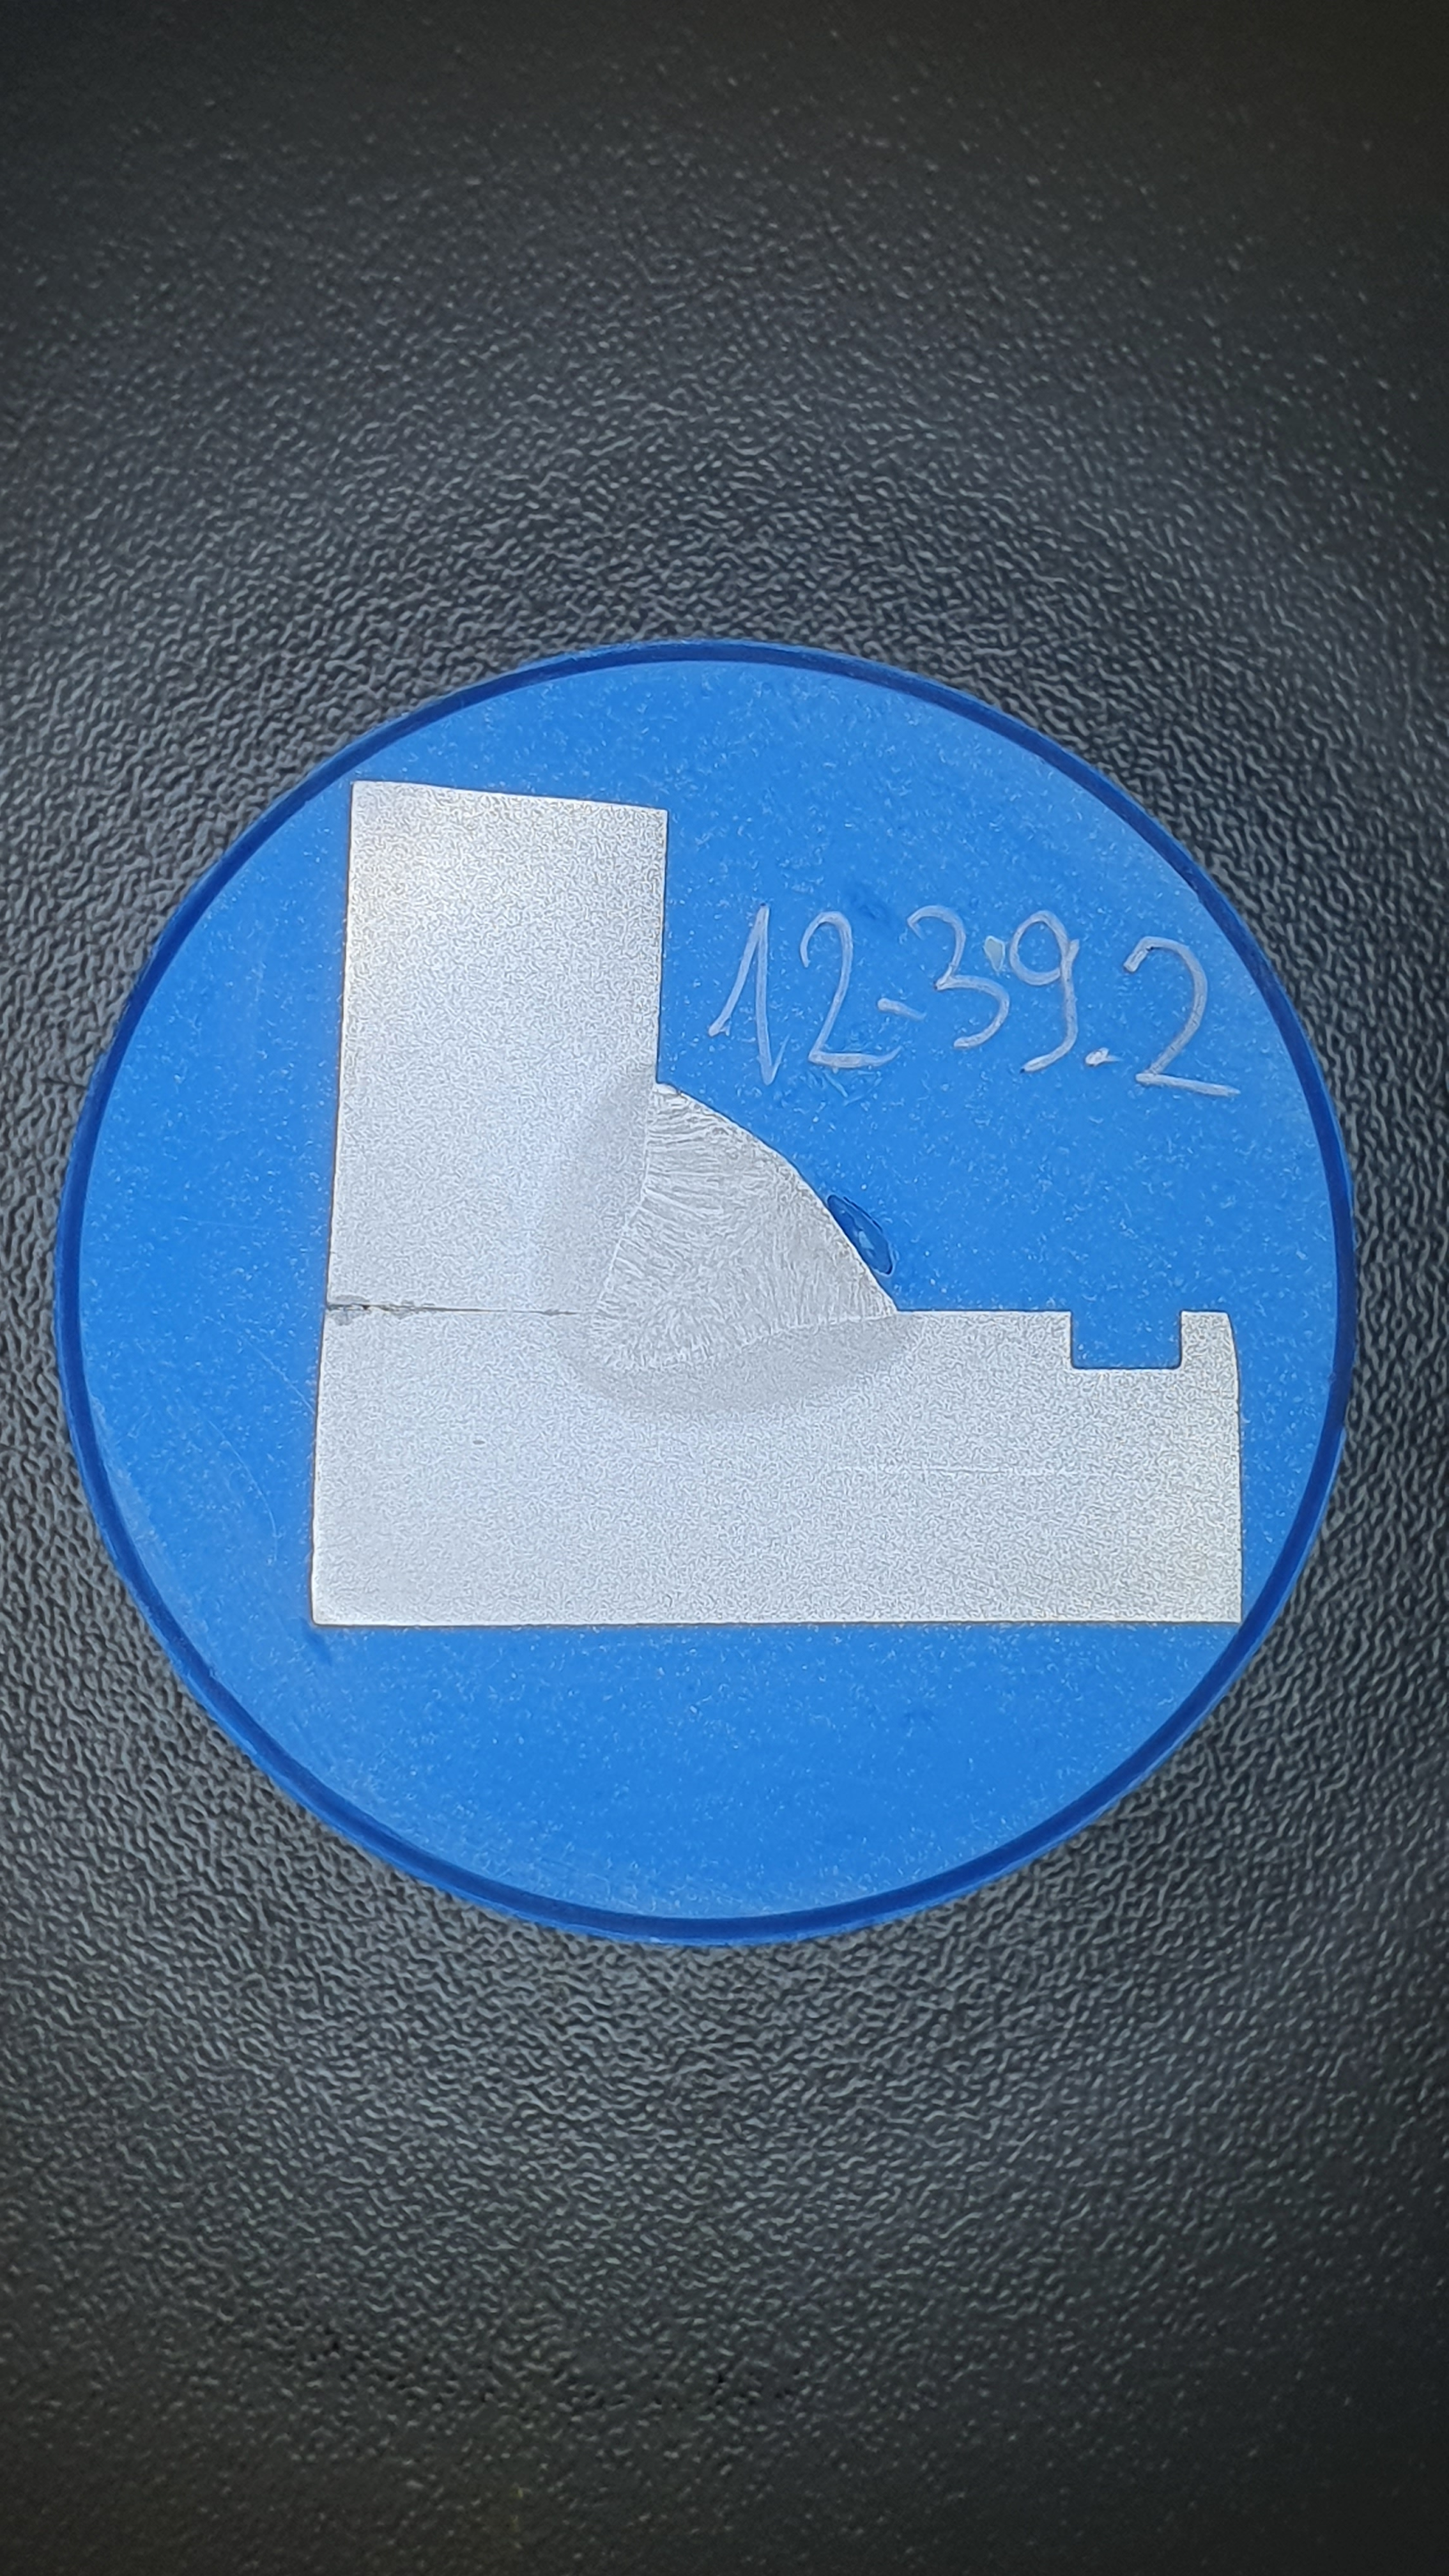Fusion: (586, 1083, 897, 1369)
Hintergrund: (78, 660, 1338, 1918)
Metall: (310, 778, 1242, 1628)
Nebenbereich: (527, 1053, 922, 1417)
